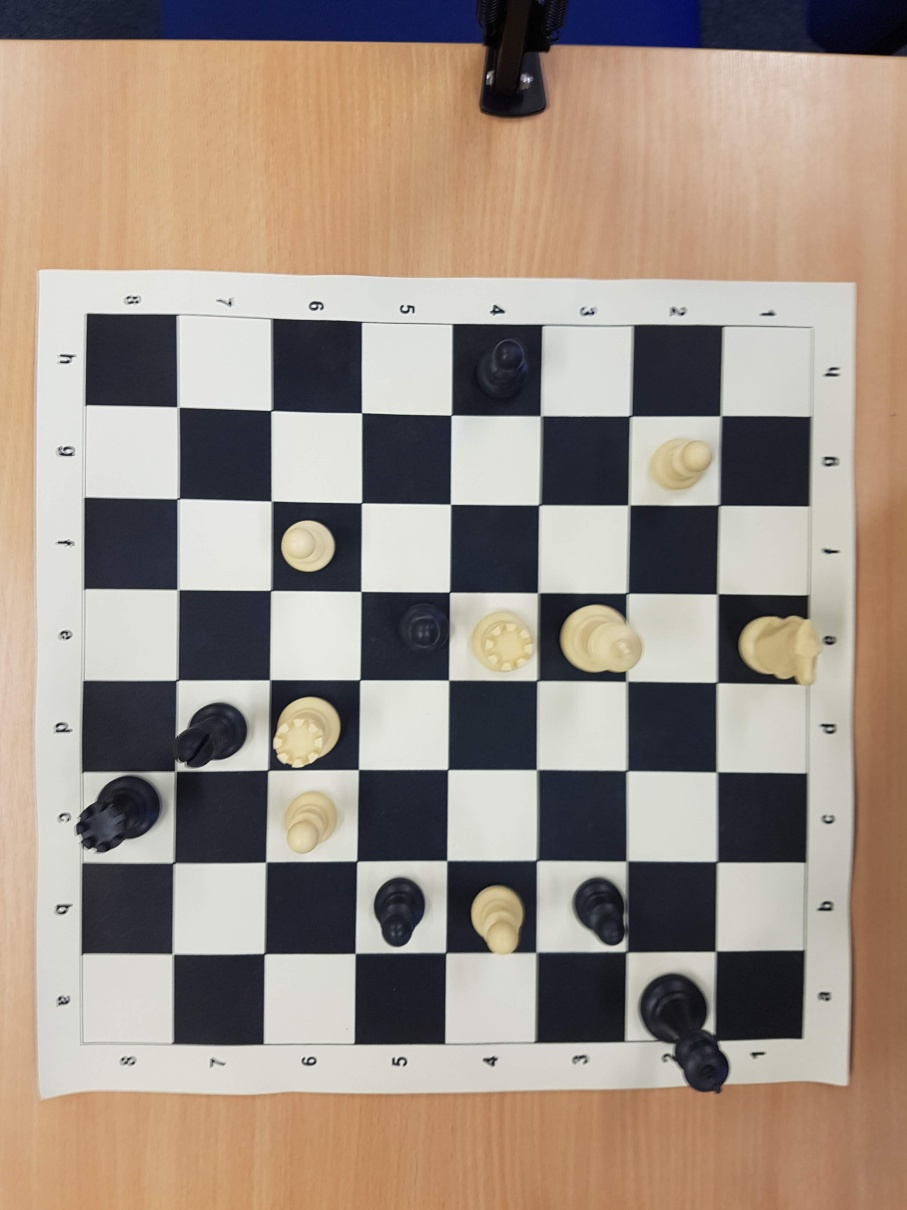chess_bishop: (176, 703, 247, 766)
chess_king: (639, 972, 730, 1094), (557, 605, 641, 674)
chess_knight: (737, 614, 821, 686)
chess_pawn: (468, 883, 525, 956), (573, 877, 625, 947), (372, 878, 425, 946), (281, 791, 338, 853), (474, 338, 530, 399), (650, 438, 714, 491), (280, 517, 335, 572), (398, 601, 447, 653)
chess_rook: (77, 775, 161, 852), (271, 696, 343, 767), (471, 613, 534, 675)
